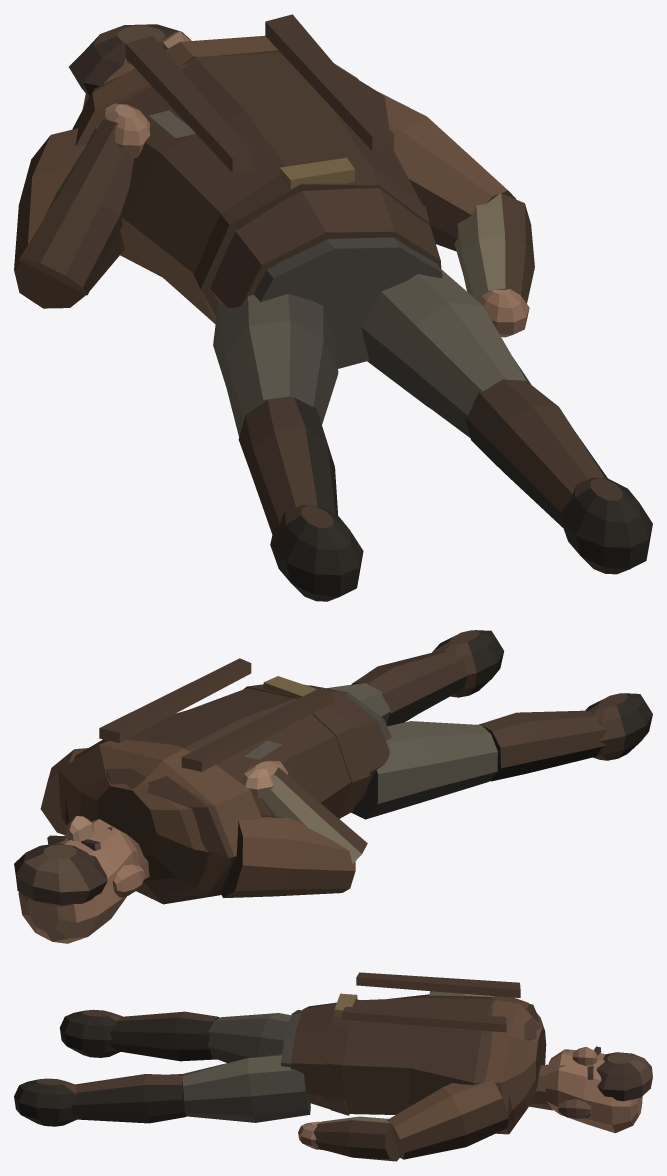
Rendered from fallen-a.glb.
3 views of the same model, one above another, from view 1: azimuth 30°, elevation 25°; view 2: azimuth 150°, elevation 25°; view 3: azimuth 270°, elevation 25° (orthographic). The views are drawn at different scales.
Parts seen in each view (by area): view 1: Cloth, Skin; view 2: Cloth, Skin; view 3: Cloth, Skin.
Boxes of the visible parts, x1,y1,x2,y2 form: Cloth: (14,14,652,601); Skin: (82,31,529,337); Cloth: (14,630,652,906); Skin: (18,760,288,943); Cloth: (14,972,652,1161); Skin: (298,993,642,1149).
Bounding box in the file's own units: 0.9006 × 0.3749 × 1.75.
